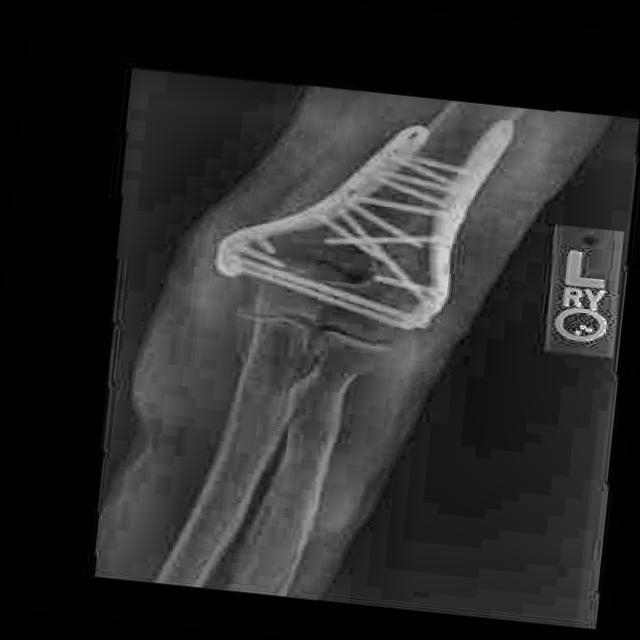elbow positive: (303, 249, 388, 296)
